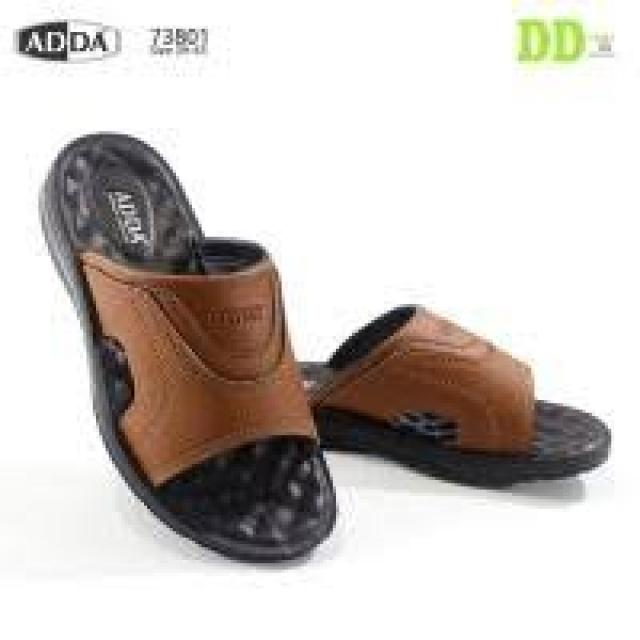shoe: (34, 133, 616, 570), (34, 134, 336, 560), (314, 300, 615, 488)
